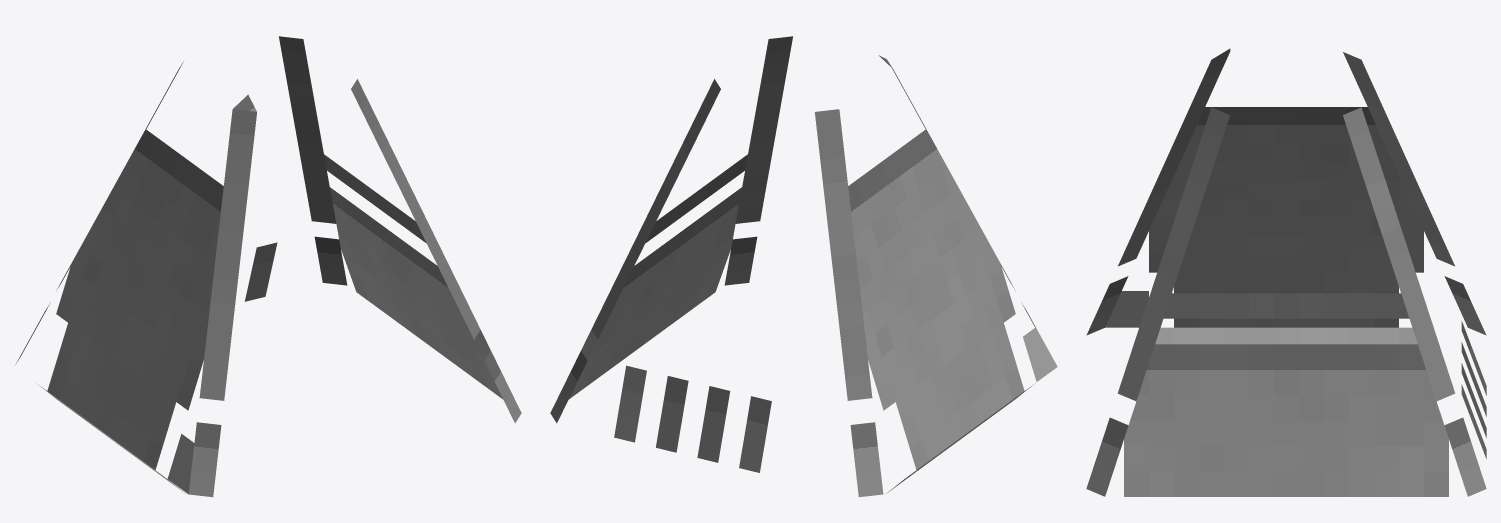
File: dragon_teeth.obj
3 views of the same model, side by side, from view 1: azimuth 30°, elevation 25°; view 2: azimuth 150°, elevation 25°; view 3: azimuth 270°, elevation 25° (orthographic). The views are drawn at different scales.
Parts seen in each view (by area): view 1: cube; view 2: cube; view 3: cube.
Part boxes in pixels (<box>): cube: <box>15,36,521,497</box>; cube: <box>550,36,1057,497</box>; cube: <box>1086,48,1486,496</box>.
Size of the model in its own units: 1.5 by 1.66 by 1.5.
